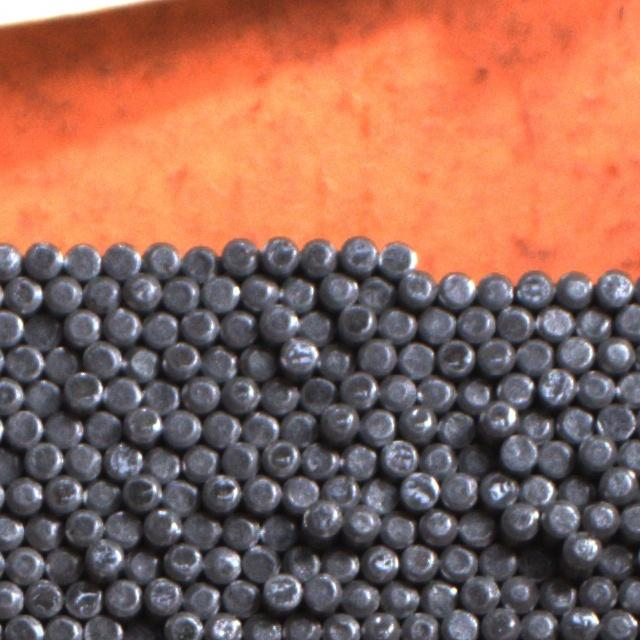tool: (122, 270, 162, 310), (298, 372, 338, 412), (302, 501, 341, 542), (45, 472, 84, 512), (258, 300, 297, 340), (340, 232, 379, 272), (201, 472, 240, 512), (122, 472, 162, 511), (478, 469, 518, 508), (278, 336, 318, 375), (498, 499, 538, 538), (560, 532, 599, 572), (218, 234, 258, 273), (338, 300, 377, 339), (142, 506, 181, 545), (63, 580, 102, 619), (4, 341, 43, 380), (595, 266, 634, 305), (102, 373, 141, 412), (221, 373, 260, 412), (397, 266, 436, 305), (495, 302, 534, 341), (438, 267, 476, 307), (161, 272, 199, 312), (164, 540, 202, 580), (62, 240, 100, 280), (64, 506, 102, 546), (218, 306, 256, 346), (143, 575, 181, 615), (458, 573, 498, 611), (102, 304, 140, 344), (84, 537, 124, 575), (398, 403, 438, 441), (476, 268, 514, 308), (556, 266, 594, 306), (322, 470, 362, 508), (516, 267, 554, 306), (239, 272, 277, 311), (104, 576, 142, 615), (418, 304, 456, 343), (262, 571, 300, 610), (3, 274, 42, 312), (42, 544, 80, 583), (24, 577, 62, 616), (201, 272, 239, 311), (457, 508, 496, 546), (242, 473, 280, 512), (400, 471, 439, 509), (357, 335, 396, 373), (318, 269, 356, 308), (319, 402, 357, 441), (456, 302, 494, 341), (5, 475, 43, 514), (4, 407, 43, 445), (124, 403, 162, 442), (361, 542, 399, 581), (42, 273, 80, 312), (180, 304, 218, 343), (162, 339, 200, 378), (436, 336, 474, 375), (477, 398, 516, 436), (476, 335, 514, 374), (101, 240, 140, 278), (201, 408, 239, 447), (24, 239, 62, 278), (260, 233, 299, 271), (498, 431, 536, 470), (540, 574, 578, 613), (25, 438, 63, 477), (219, 439, 258, 477), (299, 236, 337, 275), (343, 504, 380, 544), (419, 506, 457, 544), (340, 369, 378, 407), (181, 373, 219, 411), (417, 373, 455, 411), (202, 544, 240, 582), (581, 496, 619, 534), (278, 272, 316, 310), (83, 407, 121, 445), (537, 366, 575, 404), (579, 572, 617, 610), (6, 544, 44, 582), (536, 302, 574, 340), (556, 404, 594, 442), (42, 344, 80, 382), (82, 272, 120, 310), (379, 372, 417, 410), (160, 476, 198, 514), (496, 369, 534, 407), (182, 579, 220, 617), (516, 334, 554, 372), (302, 572, 340, 610), (556, 332, 594, 370), (141, 308, 179, 346), (84, 338, 122, 376), (200, 343, 238, 381), (44, 409, 82, 447), (260, 376, 298, 414), (142, 376, 180, 414), (220, 576, 258, 614), (258, 512, 296, 550), (320, 546, 358, 584), (222, 511, 260, 549), (24, 375, 62, 413), (478, 542, 516, 580), (381, 437, 419, 475), (143, 238, 181, 276), (536, 436, 574, 474), (541, 498, 579, 536), (23, 511, 61, 549), (182, 510, 220, 548), (262, 437, 300, 475), (397, 339, 435, 377), (501, 572, 539, 610), (300, 438, 338, 476), (400, 542, 438, 580), (381, 578, 419, 616), (598, 462, 636, 500), (376, 304, 414, 342), (516, 541, 554, 579), (63, 306, 100, 345), (163, 407, 200, 446), (597, 400, 634, 439), (180, 242, 217, 281), (480, 604, 520, 640), (518, 471, 556, 508), (359, 407, 397, 444), (440, 470, 477, 508), (437, 406, 474, 444), (317, 341, 355, 378), (239, 342, 276, 380), (64, 371, 102, 408), (282, 473, 320, 510), (296, 306, 333, 344), (342, 578, 379, 616), (103, 441, 141, 478), (240, 409, 278, 446), (420, 577, 458, 614), (577, 369, 614, 407), (379, 508, 416, 546), (65, 439, 102, 477), (438, 542, 476, 579), (104, 507, 141, 545), (123, 342, 160, 380), (356, 273, 394, 310), (361, 474, 398, 512), (576, 432, 614, 469), (456, 375, 494, 412), (283, 544, 321, 581), (378, 239, 416, 276), (280, 405, 317, 443), (560, 605, 600, 640), (181, 443, 218, 480), (342, 441, 379, 478), (83, 476, 120, 513), (240, 544, 277, 581), (143, 444, 180, 481), (597, 540, 634, 577), (575, 305, 612, 342), (24, 312, 61, 349), (124, 545, 160, 583), (517, 407, 556, 442), (597, 335, 633, 372), (420, 439, 457, 475), (557, 472, 594, 508), (456, 438, 493, 474), (520, 605, 558, 640), (600, 605, 638, 640), (440, 607, 478, 640), (163, 609, 203, 640), (362, 609, 401, 640), (205, 609, 243, 640), (402, 609, 439, 640), (4, 611, 43, 640), (244, 611, 282, 640), (282, 611, 320, 640), (84, 612, 123, 640), (322, 611, 359, 640), (44, 612, 82, 640), (122, 614, 160, 640), (0, 578, 24, 618), (0, 305, 24, 344), (615, 369, 640, 406), (616, 300, 640, 338), (0, 511, 24, 548), (0, 374, 23, 412), (0, 238, 23, 276), (617, 433, 640, 470), (0, 444, 22, 482), (619, 500, 640, 538), (618, 574, 640, 610)
